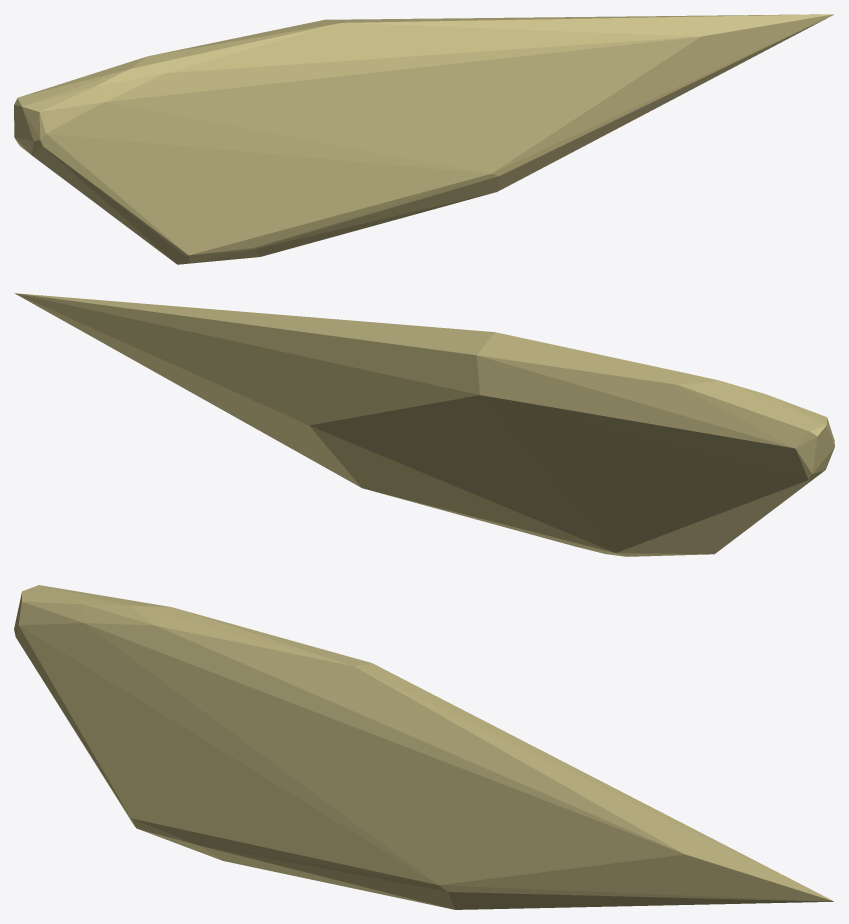
The model's file is handTool_pliers_long_nose_a01.glb.
The picture shows the model from 3 angles, top to bottom: view 1: azimuth 30°, elevation 25°; view 2: azimuth 150°, elevation 25°; view 3: azimuth 330°, elevation 25°; orthographic projection. The views are drawn at different scales.
Visible parts, largest first — view 1: geometry_0; view 2: geometry_0; view 3: geometry_0.
Boxes of the visible parts, box(x1,y1,x2,y2) form: geometry_0: box(14, 14, 833, 264); geometry_0: box(14, 293, 834, 556); geometry_0: box(14, 585, 833, 909).
Bounding box in the file's own units: 0.4794 × 0.1165 × 0.061.
